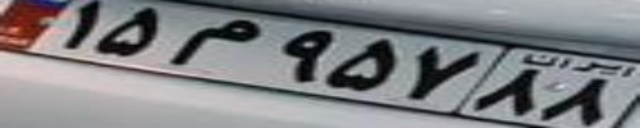1: (64, 0, 97, 49)
5: (327, 33, 398, 91), (95, 5, 158, 57)
7: (405, 44, 481, 102)
8: (471, 67, 537, 115), (540, 77, 605, 125)
9: (280, 28, 334, 83)
mim: (170, 19, 261, 66)
